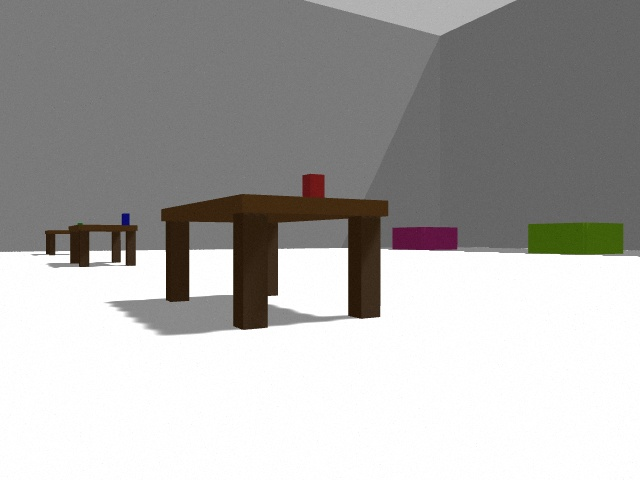blue_cube: (122, 213, 130, 225)
green_drop_zone: (528, 222, 623, 255)
red_cube: (310, 174, 324, 197)
red_drop_zone: (392, 227, 458, 250)
